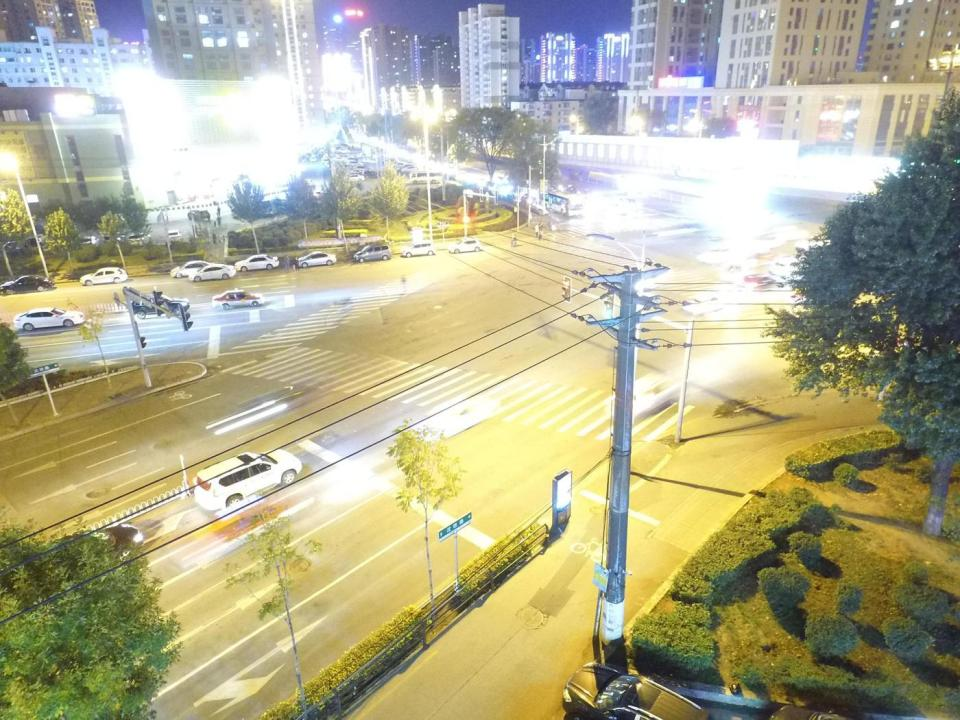bus: (539, 191, 583, 216), (409, 170, 442, 183)
car: (561, 662, 711, 720), (44, 523, 143, 562), (14, 307, 84, 331), (0, 274, 55, 296), (213, 288, 263, 309), (682, 294, 728, 316), (79, 267, 128, 286), (170, 260, 217, 278), (189, 263, 235, 281), (233, 255, 279, 272), (296, 252, 337, 268), (743, 273, 777, 291), (448, 237, 483, 253), (127, 232, 151, 247), (75, 235, 99, 249), (2, 241, 21, 256), (167, 229, 182, 242), (342, 174, 364, 182), (231, 206, 244, 219), (104, 232, 119, 243), (363, 170, 380, 178), (353, 165, 372, 172), (343, 161, 363, 167), (401, 166, 418, 173), (334, 148, 350, 153), (310, 156, 316, 161)
van: (193, 447, 302, 510), (130, 294, 189, 318), (353, 244, 392, 263), (402, 241, 435, 258), (24, 234, 46, 255), (188, 210, 210, 221)
